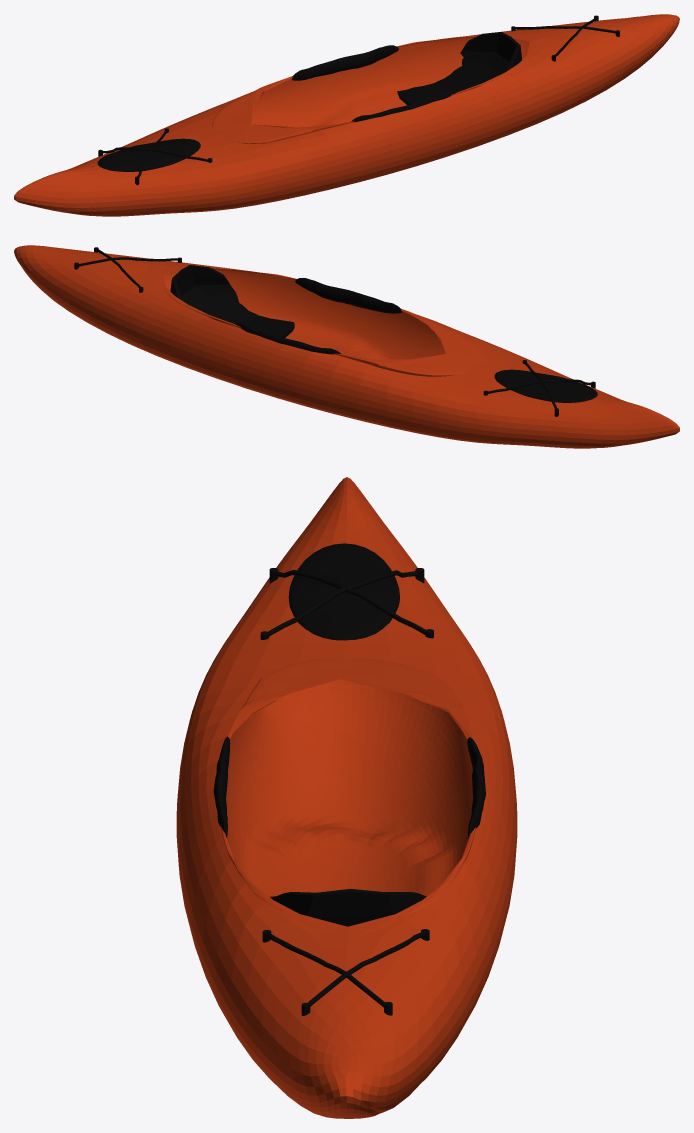
The model's file is KayakBody.fbx.
The picture shows the model from 3 angles, top to bottom: view 1: azimuth 30°, elevation 25°; view 2: azimuth 150°, elevation 25°; view 3: azimuth 270°, elevation 25°; orthographic projection. The views are drawn at different scales.
Visible parts, largest first — view 1: Body, Cube.001, Sphere, Sphere.001, Sphere.002, Cylinder.010; view 2: Body, Cube.001, Sphere, Sphere.002, Sphere.001, Cylinder.009; view 3: Body, Sphere, Cube.001, Sphere.001, Sphere.002.
Boxes of the visible parts, box(x1,y1,x2,y2) form: Body: box(14, 14, 679, 216); Cube.001: box(397, 31, 521, 105); Sphere: box(97, 138, 200, 171); Sphere.001: box(291, 45, 398, 80); Sphere.002: box(351, 90, 457, 122); Cylinder.010: box(102, 147, 208, 161); Body: box(14, 245, 679, 448); Cube.001: box(170, 265, 294, 337); Sphere: box(494, 369, 597, 402); Sphere.002: box(295, 278, 402, 313); Sphere.001: box(235, 322, 340, 354); Cylinder.009: box(488, 379, 591, 393); Body: box(176, 477, 517, 1118); Sphere: box(288, 543, 399, 640); Cube.001: box(270, 888, 426, 926); Sphere.001: box(467, 737, 485, 838); Sphere.002: box(213, 736, 230, 837).
Size of the model in its own units: 449 by 99.54 by 51.8.
